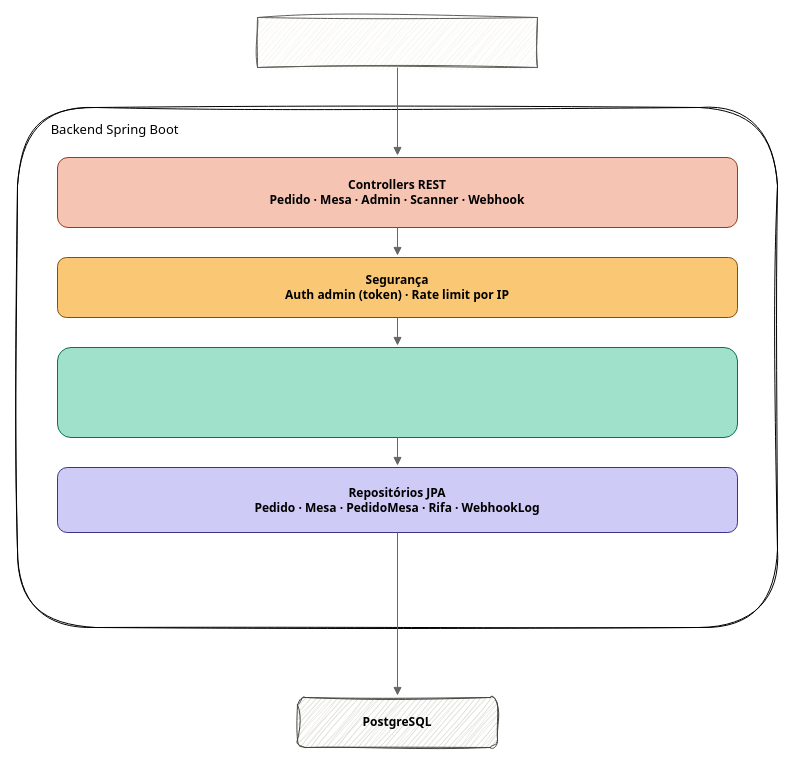
Image size: 795x765. Some labels were removed from this diagram. Each missing label, with the centre of its shape:
"Cliente (Postman / navegador)" goes at pixel 397 42.
"Services PedidoService · MesaService RifaService · EmailService · BackupService" goes at pixel 397 392.
